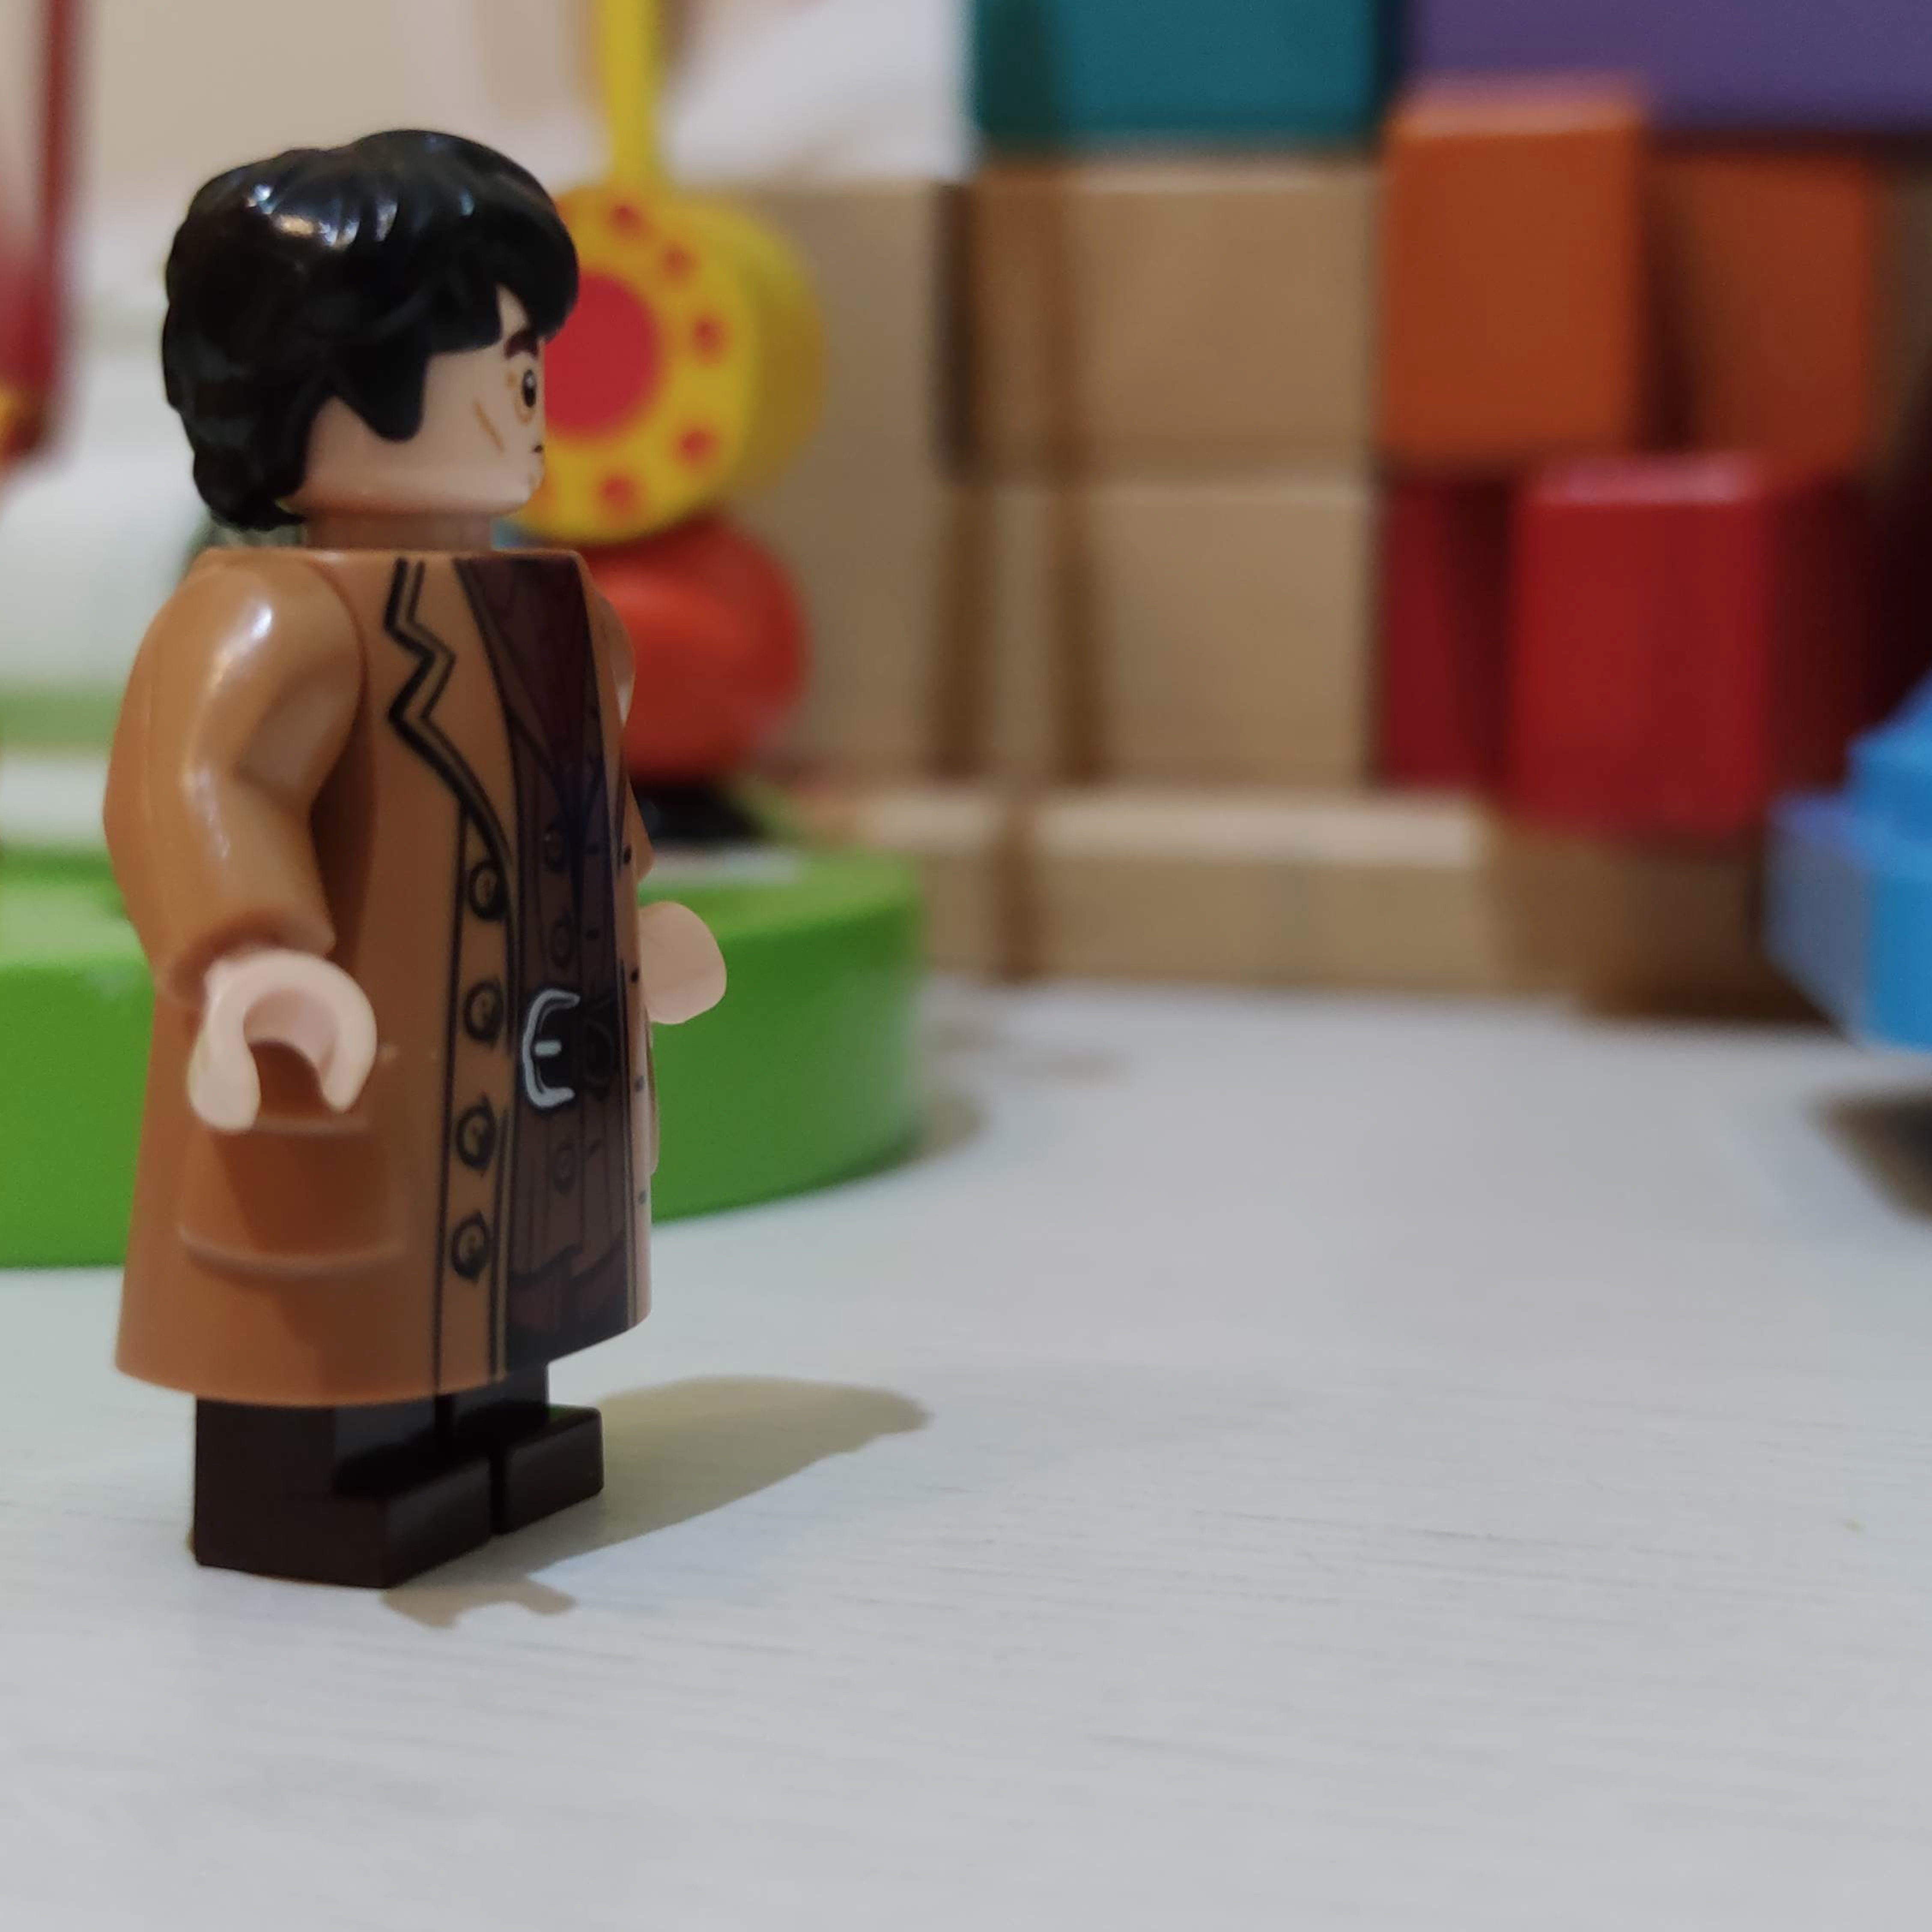lego: (101, 131, 732, 1596)
